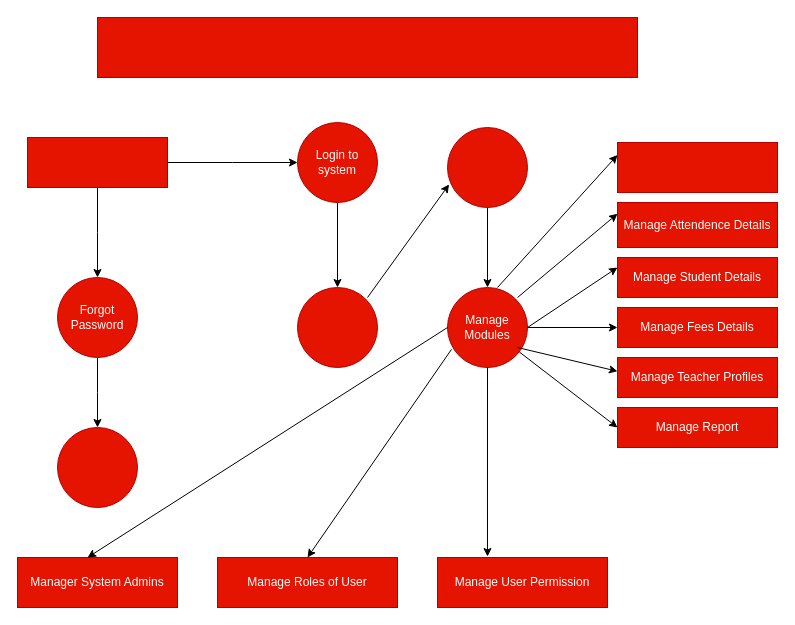
Image size: 795x625. Some labels were removed from this diagram. The centre of each missing label's shape, as x and y in pixels:
Admin: point (97, 162)
Check Credentials: point (337, 327)
Check Roles of Access: point (487, 167)
Manage Timetable Details: point (697, 167)
Send Email to User: point (97, 467)
Student Information System: point (367, 47)
